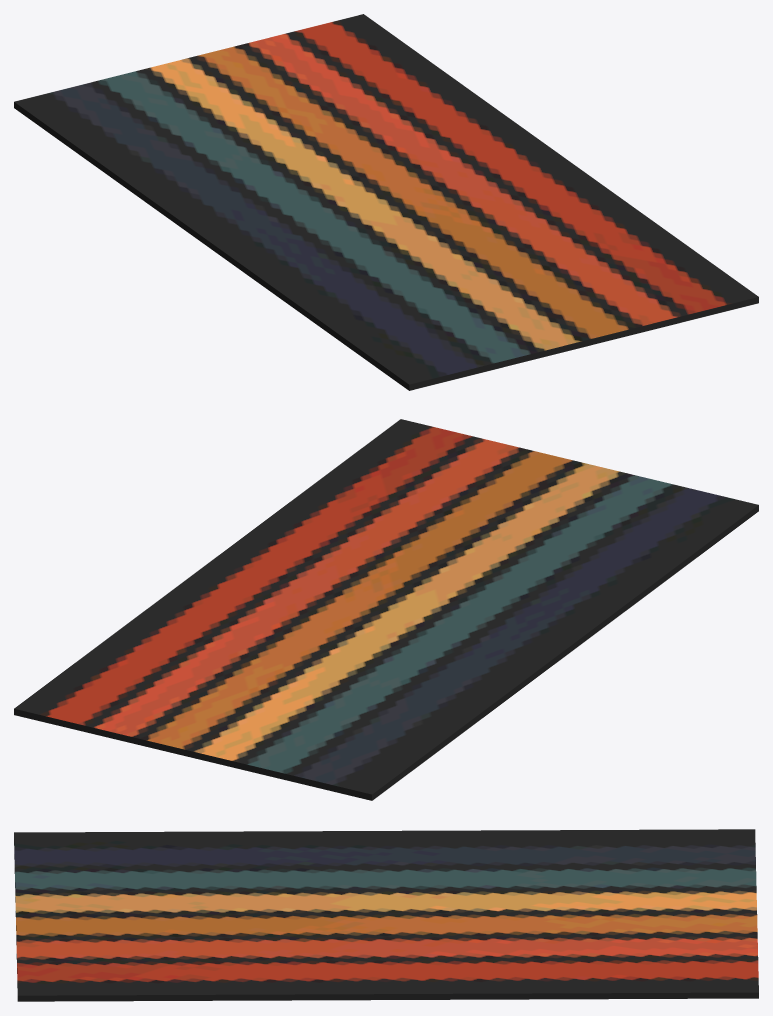
File: object_14_lev1.glb
3 renders of one model, top to bottom at view 1: azimuth 30°, elevation 25°; view 2: azimuth 150°, elevation 25°; view 3: azimuth 270°, elevation 25°, orthographic. The views are drawn at different scales.
Visible parts, largest first — view 1: object_14_lev1; view 2: object_14_lev1; view 3: object_14_lev1.
Part boxes in pixels (x1,y1,x2,y2): object_14_lev1: (14,14,758,390); object_14_lev1: (14,419,758,800); object_14_lev1: (14,829,758,1001).
Bounding box in the file's own units: 0.7715 × 0.014 × 1.46.
1 material, 1 textured.
